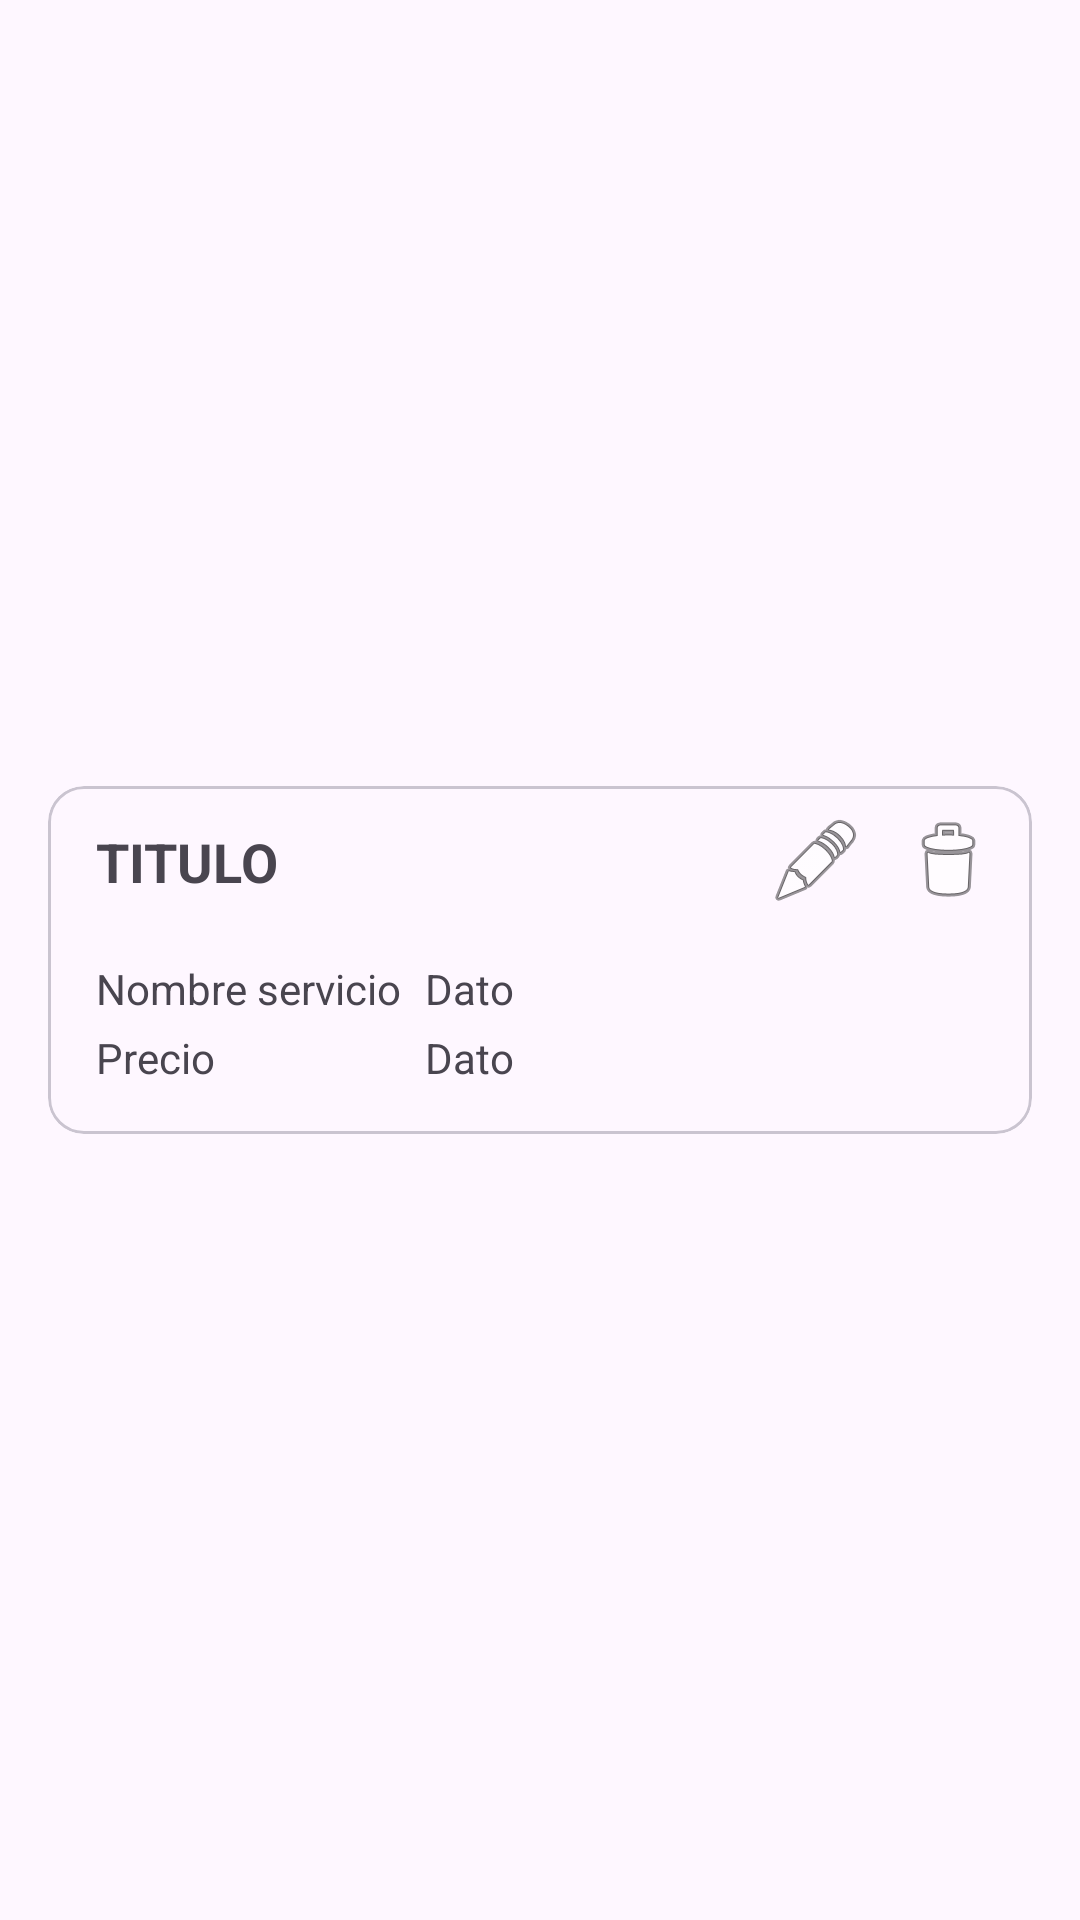

Named icons in this screenshot (1080 x 1920) and their bounding boxes, (x1, y1, x2, y2):
delete: (921, 822, 976, 897)
edit: (775, 820, 856, 901)
